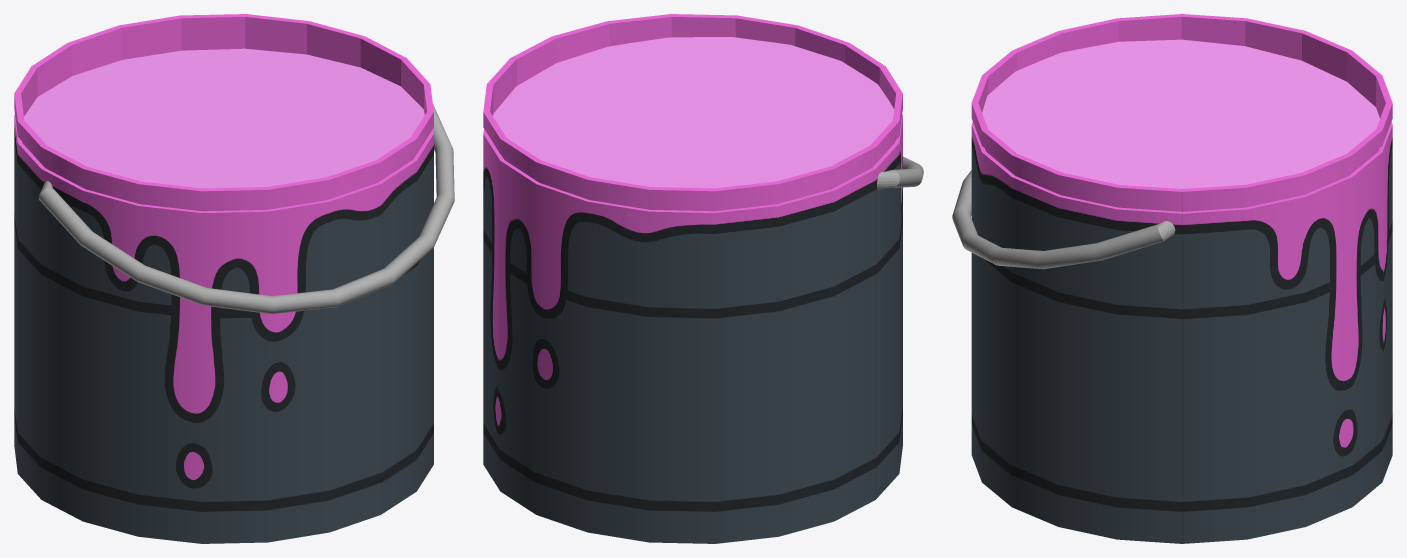
Rendered from paintBucket_Pink.fbx.
The picture shows the model from 3 angles, left to right: view 1: azimuth 30°, elevation 25°; view 2: azimuth 150°, elevation 25°; view 3: azimuth 270°, elevation 25°; orthographic projection.
Visible parts, largest first — view 1: paintBucket, paintMesh, bucketHandle; view 2: paintBucket, paintMesh, bucketHandle; view 3: paintBucket, paintMesh, bucketHandle.
Boxes of the visible parts, bbox=[...] form: paintBucket: bbox=[14, 14, 433, 543]; paintMesh: bbox=[24, 48, 424, 188]; bucketHandle: bbox=[38, 104, 454, 314]; paintBucket: bbox=[483, 14, 902, 543]; paintMesh: bbox=[493, 37, 894, 188]; bucketHandle: bbox=[877, 156, 923, 189]; paintBucket: bbox=[971, 14, 1392, 543]; paintMesh: bbox=[982, 39, 1379, 188]; bucketHandle: bbox=[952, 170, 1175, 269].
Bounding box in the file's own units: 1.32 × 1.13 × 1.28.
3 materials, 1 textured.
